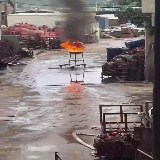fire: (61, 40, 84, 52)
